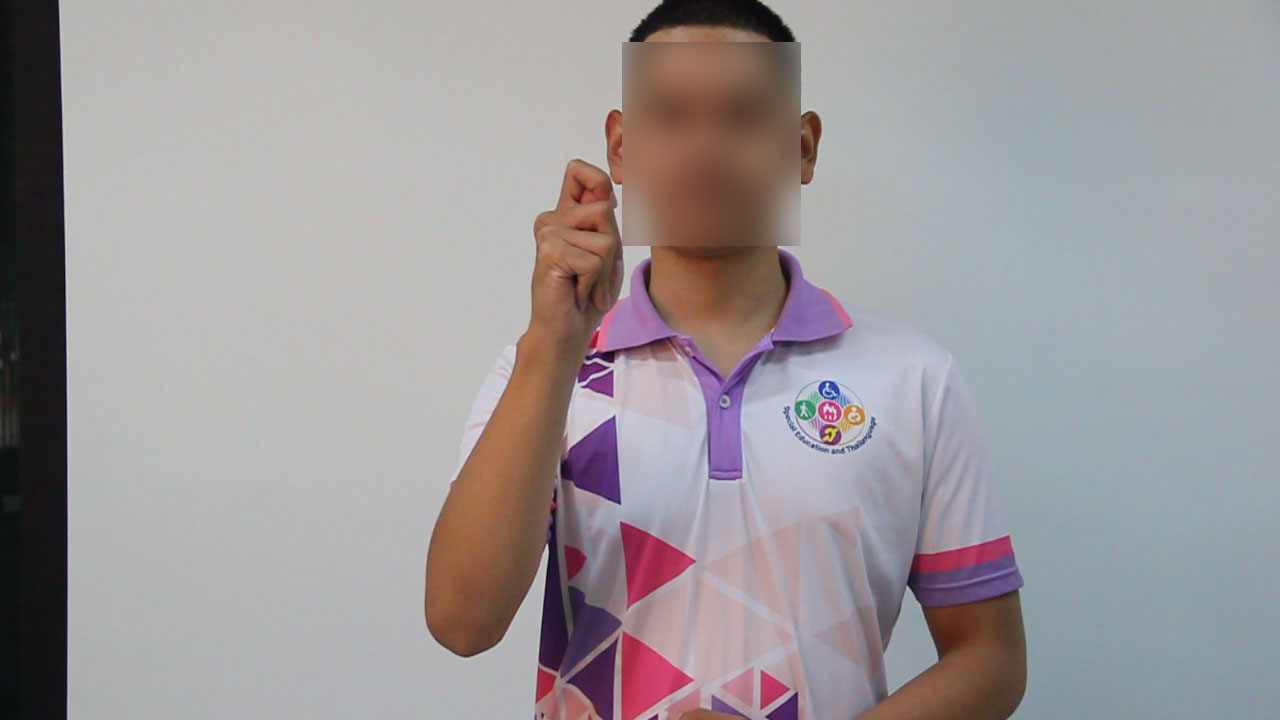or: (522, 159, 633, 358)
